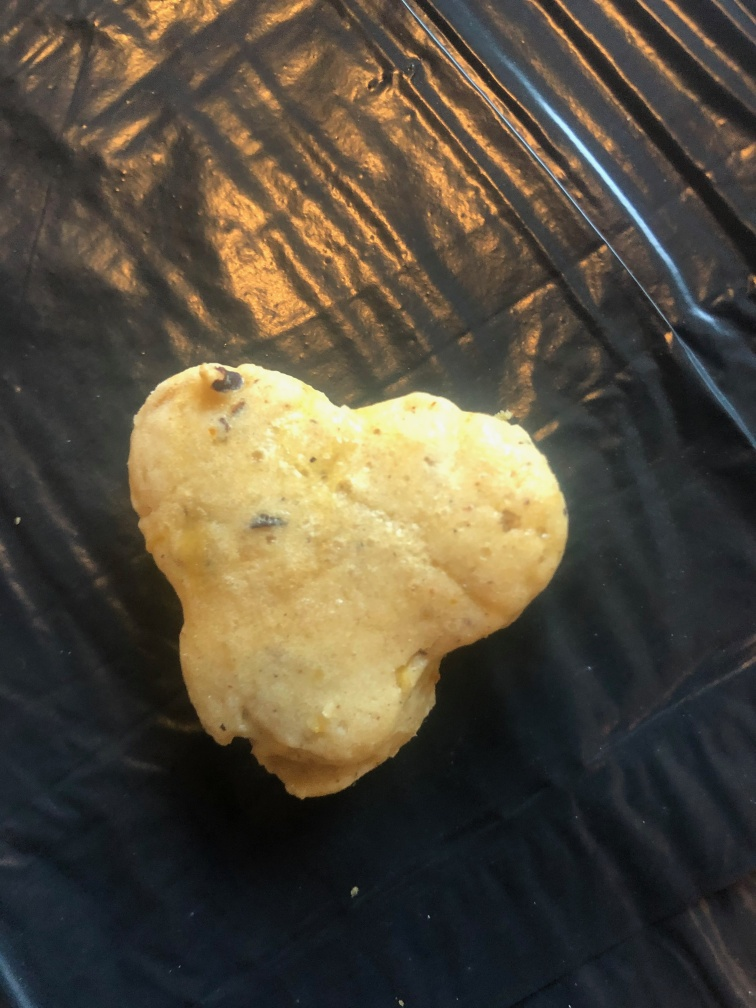flake: (117, 349, 574, 817)
